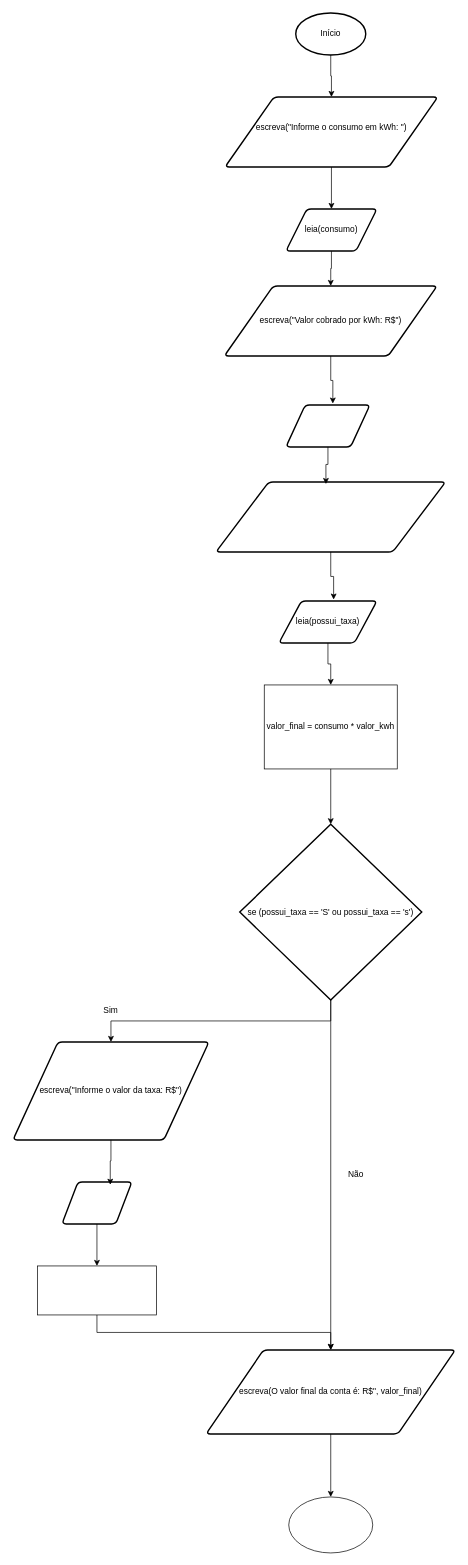
This 468x1565 diagram has some shape labels left out. Here are the shapes that lost their labels. From the top down, the centre of each, then its label:
point (327, 425): leia(valor_kwh)
point (330, 516): escreva("Existe taxa de iluminação? (S/N): ")
point (96, 1202): leia(taxa)
point (96, 1290): valor_final = valor_final + taxa
point (330, 1524): Fim
